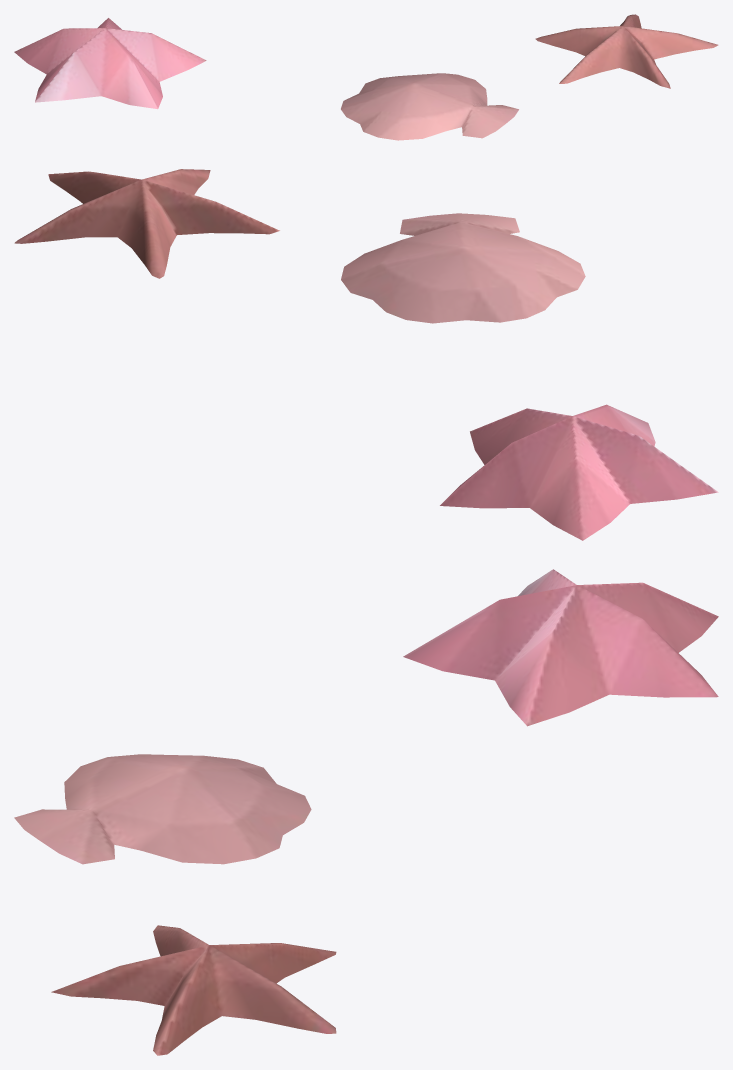
File: YeShu_BK.FBX
The picture shows the model from 3 angles, top to bottom: view 1: azimuth 30°, elevation 25°; view 2: azimuth 150°, elevation 25°; view 3: azimuth 270°, elevation 25°; orthographic projection. The views are drawn at different scales.
Parts seen in each view (by area): view 1: YeShu_BK02, YeShu_BK03, YeShu_BK01; view 2: YeShu_BK02, YeShu_BK03, YeShu_BK01; view 3: YeShu_BK02, YeShu_BK03, YeShu_BK01.
Boxes of the visible parts, x1=… form: YeShu_BK02: x1=14, y1=18, x2=206, y2=109; YeShu_BK03: x1=341, y1=73, x2=518, y2=140; YeShu_BK01: x1=535, y1=14, x2=718, y2=88; YeShu_BK02: x1=440, y1=404, x2=718, y2=540; YeShu_BK03: x1=341, y1=213, x2=585, y2=323; YeShu_BK01: x1=14, y1=169, x2=279, y2=278; YeShu_BK02: x1=403, y1=569, x2=718, y2=726; YeShu_BK03: x1=14, y1=754, x2=311, y2=864; YeShu_BK01: x1=51, y1=925, x2=336, y2=1055.
Bounding box in the file's own units: 341 × 25.87 × 217.
